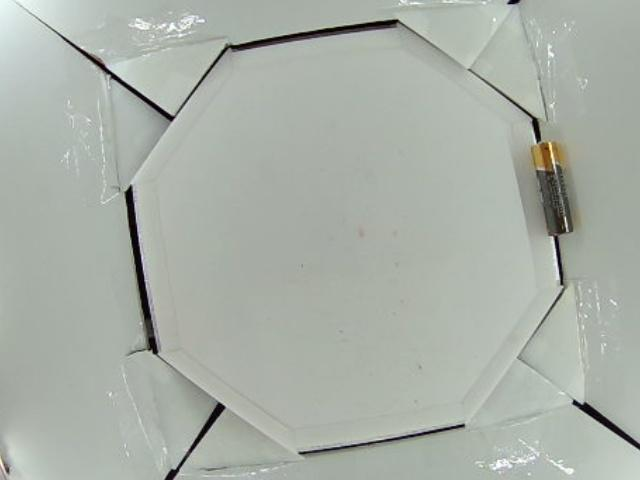Battery: (531, 139, 575, 237)
